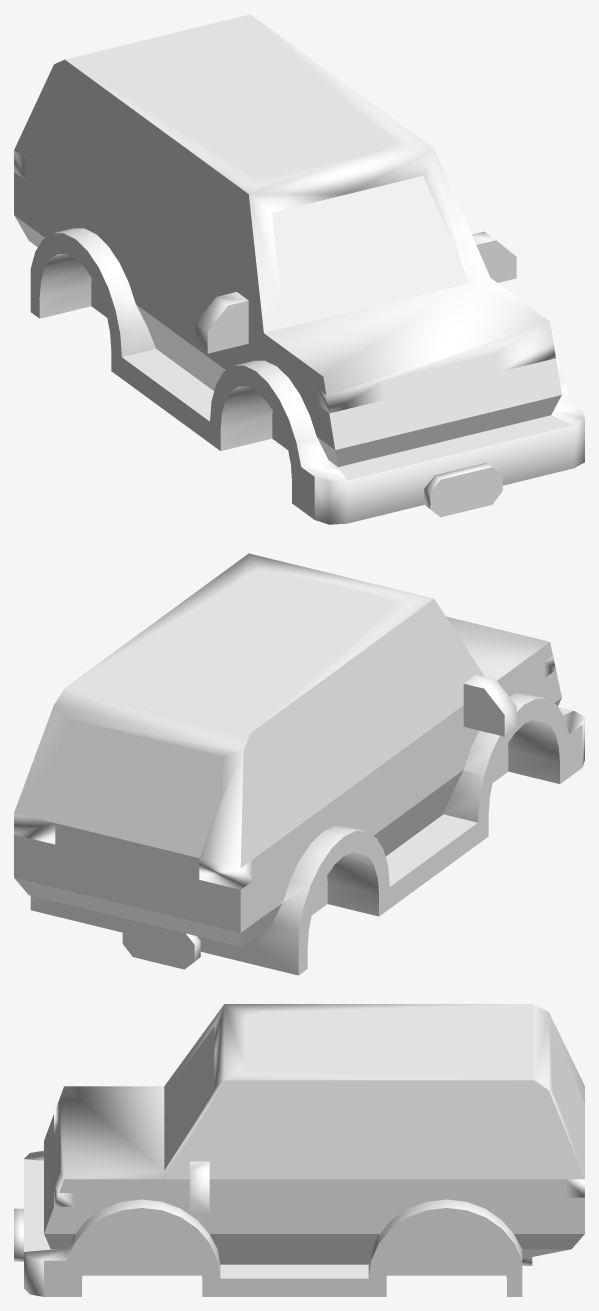
File: suv-vehicle.glb
3 renders of one model, top to bottom at view 1: azimuth 30°, elevation 25°; view 2: azimuth 150°, elevation 25°; view 3: azimuth 270°, elevation 25°, orthographic. The views are drawn at different scales.
Parts seen in each view (by area): view 1: suv-vehicle; view 2: suv-vehicle; view 3: suv-vehicle.
Boxes of the visible parts, x1=… form: suv-vehicle: x1=14, y1=14, x2=584, y2=524; suv-vehicle: x1=14, y1=553, x2=584, y2=975; suv-vehicle: x1=14, y1=1004, x2=584, y2=1296.
Bounding box in the file's own units: 1.5 × 1.17 × 2.85.
1 material, 1 textured.
